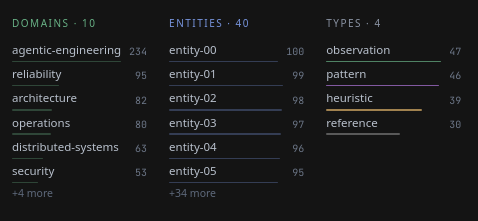
Test: overflow browser › back returns to the columns
Click the text with test id "facet-more" showing "+34 more". click: coordinates (193, 193)
box: [169,186,216,200]
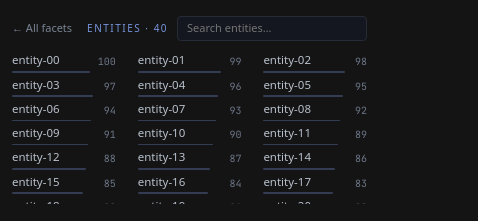
Click the button with test id "facet-back". click: coordinates (45, 29)
box: [12,18,78,39]
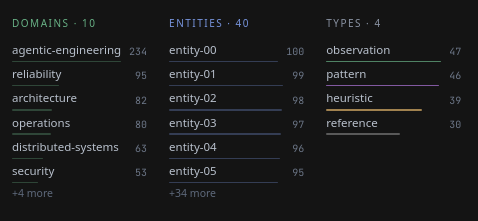
Check: the element with test id "facet-browser" is gone
Check: the number of elements with test id "facet-column" is 3, box [12,16,147,204]; [169,16,304,204]; [326,16,461,204]
